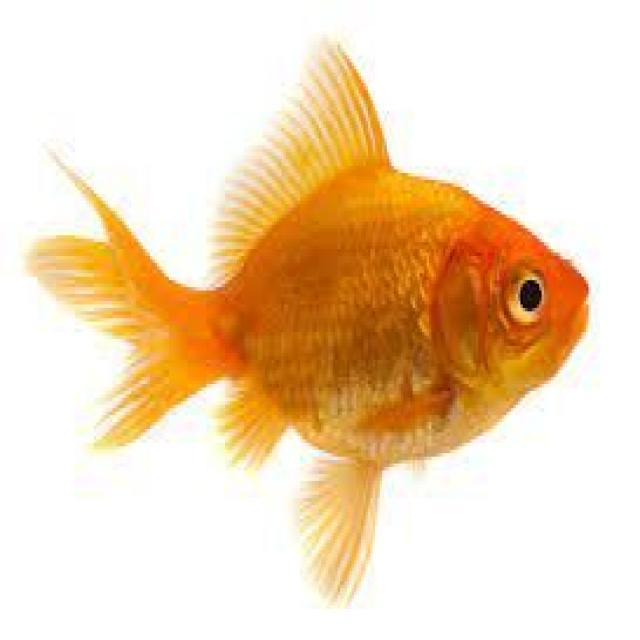Gold-Fish: (0, 67, 640, 583)
